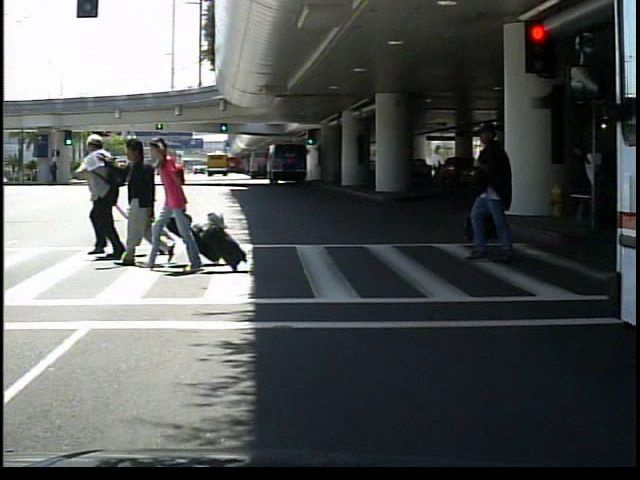person: (455, 114, 528, 265)
